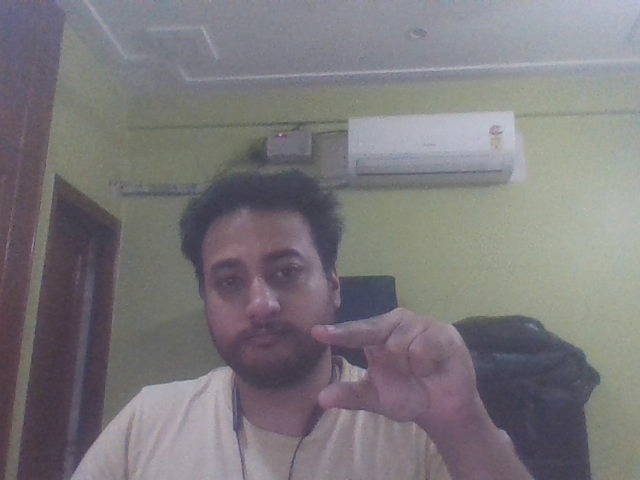No: (300, 300, 516, 454)
